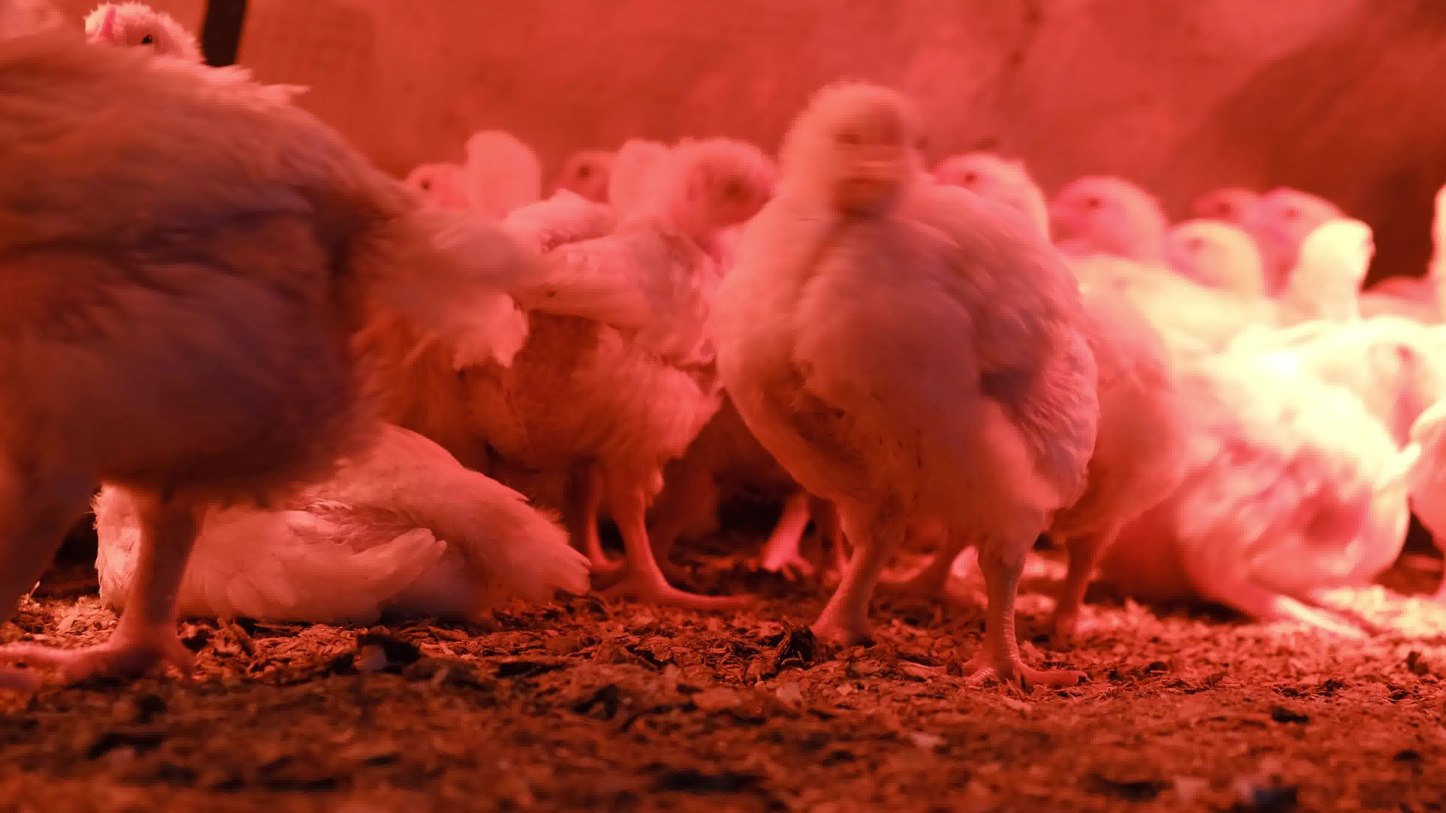AbNormal: (90, 407, 590, 625), (1156, 324, 1446, 608)
Normal: (0, 0, 552, 693), (714, 83, 1096, 687), (460, 130, 782, 623), (938, 151, 1204, 658), (1051, 174, 1173, 274), (1289, 219, 1386, 333), (454, 130, 546, 247), (74, 4, 213, 79), (1173, 219, 1262, 303), (394, 151, 466, 244), (1188, 183, 1271, 241), (554, 143, 622, 202), (1266, 183, 1347, 231)
